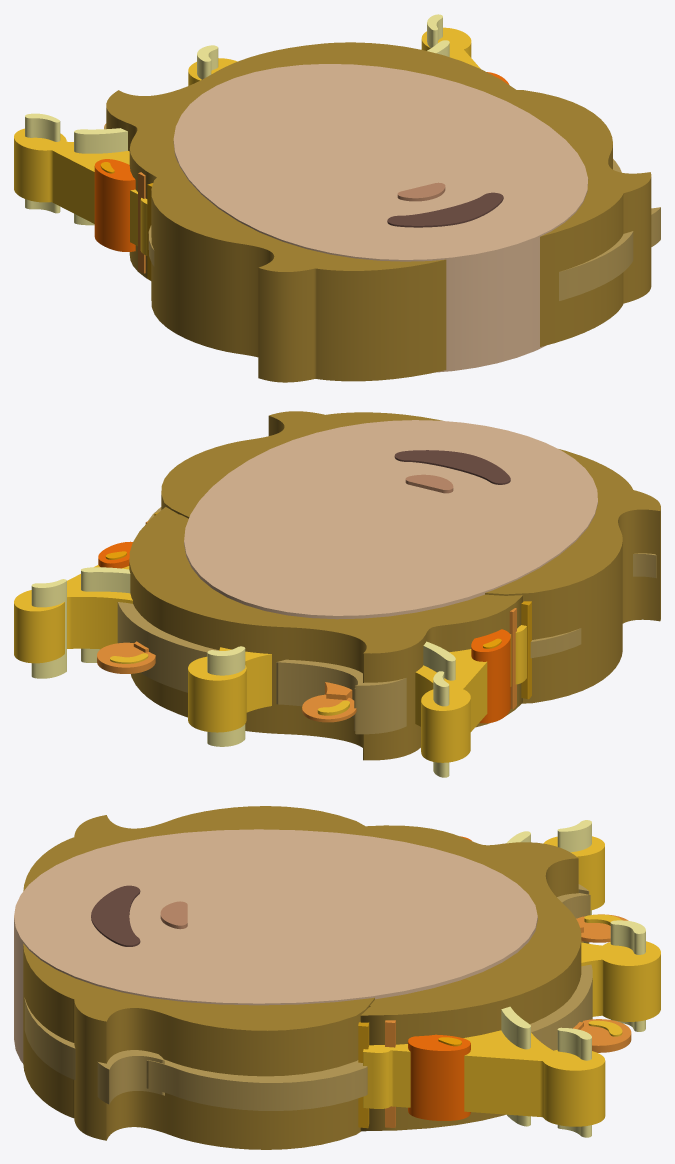
The model's file is emoji_u1fac5_1f3fc.glb.
3 renders of one model, top to bottom at view 1: azimuth 30°, elevation 25°; view 2: azimuth 150°, elevation 25°; view 3: azimuth 270°, elevation 25°, orthographic. The views are drawn at different scales.
Visible parts, largest first — view 1: emoji_u1fac5_1f3fc; view 2: emoji_u1fac5_1f3fc; view 3: emoji_u1fac5_1f3fc.
Boxes of the visible parts, box(x1,y1,x2,y2) form: emoji_u1fac5_1f3fc: box(14, 14, 660, 382); emoji_u1fac5_1f3fc: box(14, 411, 660, 777); emoji_u1fac5_1f3fc: box(14, 806, 660, 1149).
Bounding box in the file's own units: 0.0289 × 0.0074 × 0.0335.
